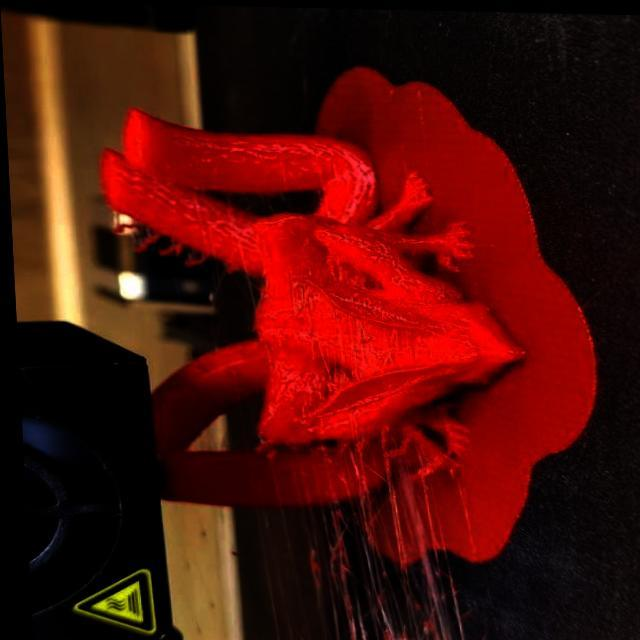stringing: (293, 455, 442, 578), (298, 573, 476, 640), (252, 516, 304, 640), (232, 268, 262, 310)
